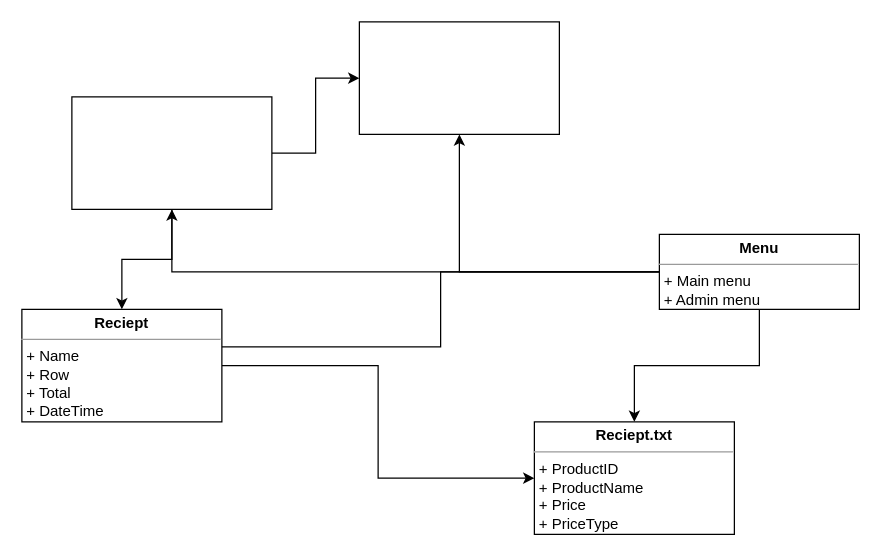
Some shapes in this 881 by 556 pixel diagram are drawn without their labels. The centre of each missing label's shape, as x and y in pixels:
"Product + ProductID + ProductName + Price + PriceType" goes at [171,152].
"Products.txt + ProductID + ProductName + Price + PriceType" goes at [458,77].
